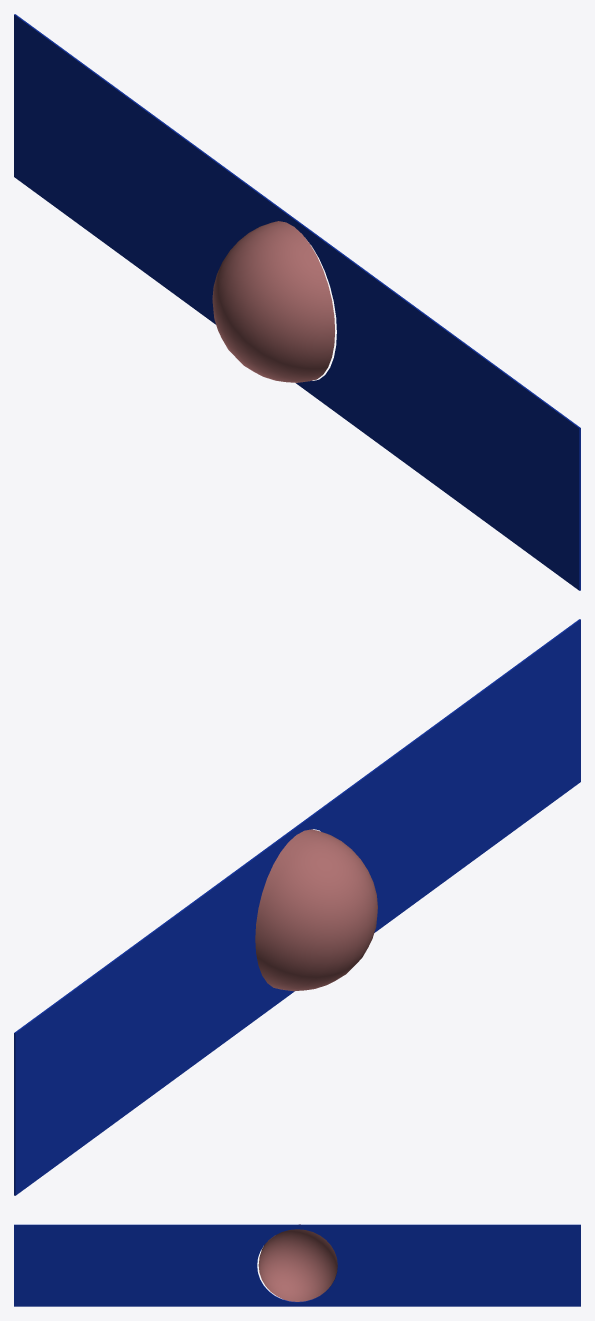
The model's file is 10x63 one nip.FBX.
3 views of the same model, one above another, from view 1: azimuth 30°, elevation 25°; view 2: azimuth 150°, elevation 25°; view 3: azimuth 270°, elevation 25° (orthographic). The views are drawn at different scales.
Parts seen in each view (by area): view 1: Box037; view 2: Box037; view 3: Box037.
Boxes of the visible parts, <box> form: Box037: <box>14,14,580,590</box>; Box037: <box>14,619,580,1195</box>; Box037: <box>14,1224,580,1306</box>.
Size of the model in its own units: 4.69 by 10 by 63.08.
